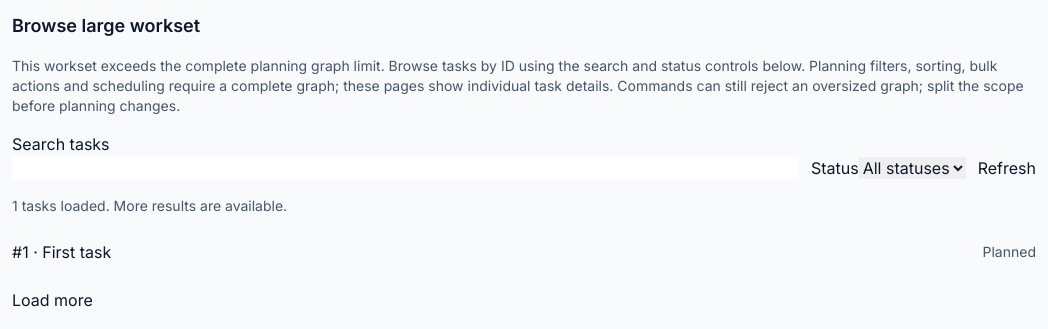
loads bounded pages explicitly and retains selected work
The width and height of the screenshot is (1048, 329).
Click the button "#1 · First task" at (62, 252), box [12,240,111,264]
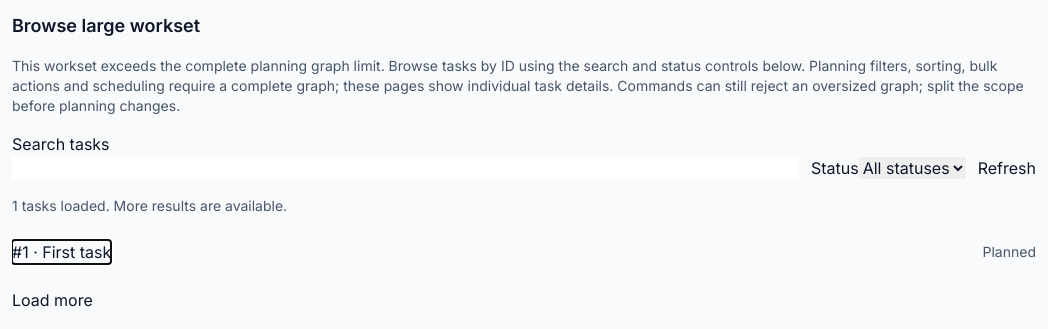
Click the button "Load more" at (52, 300), box [12,288,93,312]
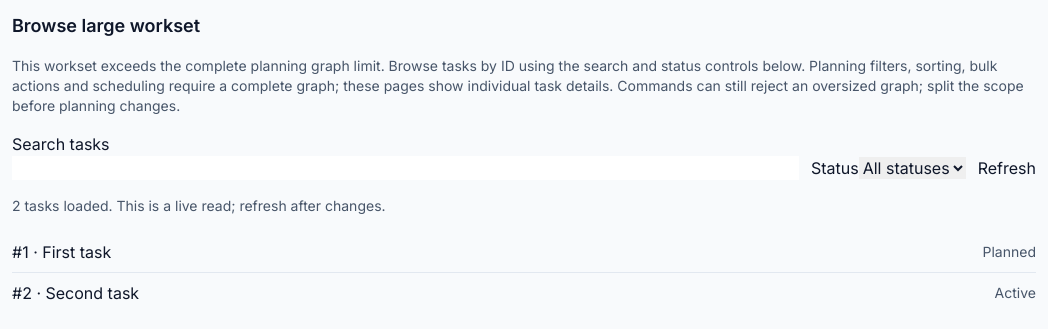
Result: the button "#2 · Second task" is shown at [12,281,139,305]
